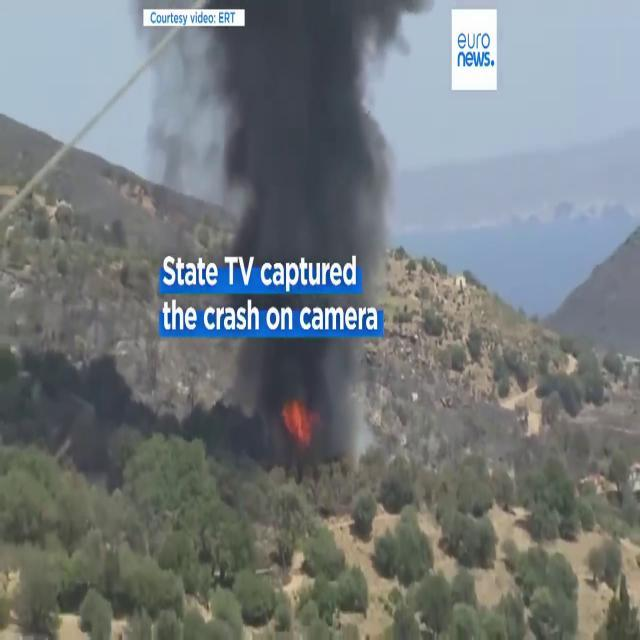Smoke: (166, 0, 412, 284), (220, 333, 370, 451)
